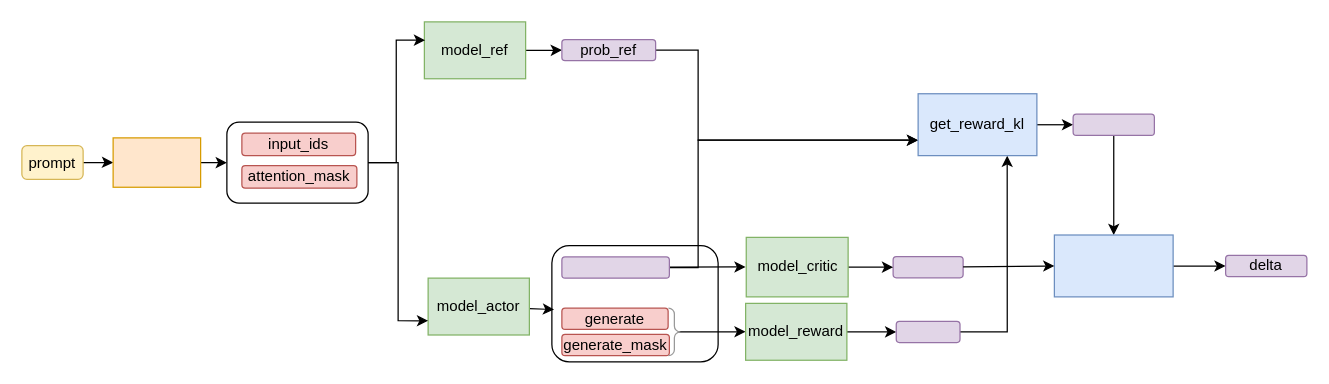
The diagram is 1329 pixels wide and 384 high, and some of its shapes have lost their labels. Each missing label, with the box of its shape:
get_delta: (1053, 234, 1173, 297)
prob_old: (561, 256, 669, 278)
reward: (895, 320, 960, 342)
reward_kl: (1072, 113, 1154, 135)
Tokenizer: (112, 137, 201, 187)
value_old: (892, 255, 963, 278)
